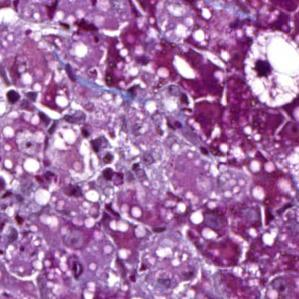ballooning: (242, 30, 297, 111)
